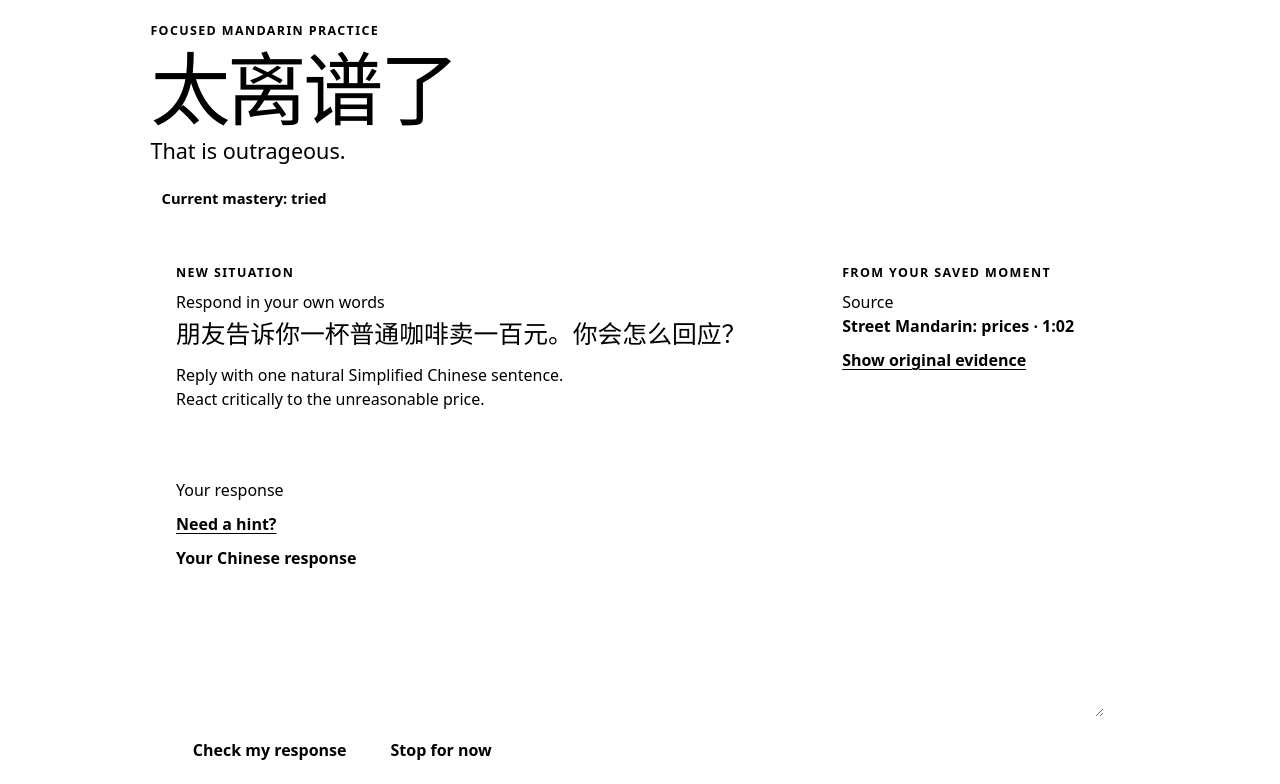
Test case: PracticeSession › reveals existing hint metadata without fetching and submits the hint assistance level
Click the button "Need a hint?": (226, 524) [176,502,276,546]
(page scrolled)
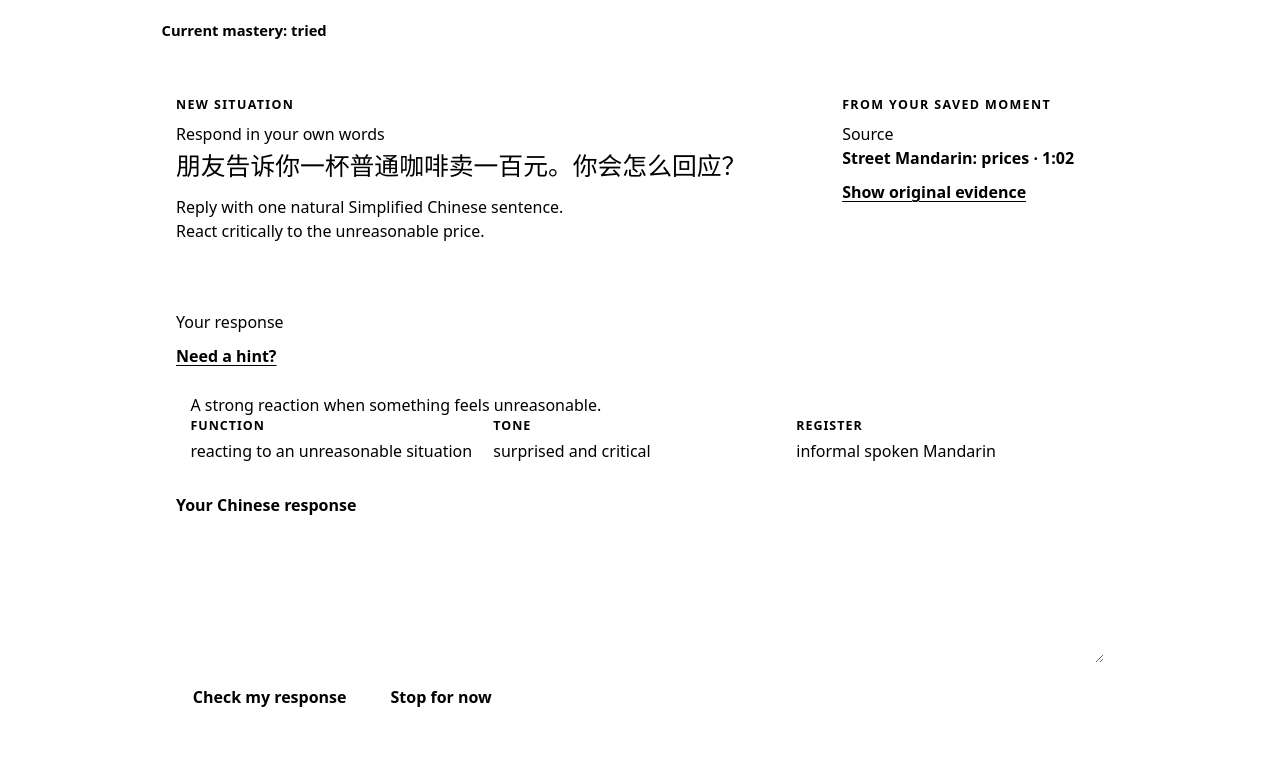
Expected: the text "A strong reaction when something feels unreasonable." is shown, [190,394,601,416]
Expected: the text "surprised and critical" is shown, [493,440,651,462]
Expected: the text "reacting to an unreasonable situation" is shown, [190,438,484,462]
In the text box labelled "Your Chinese response": (640, 595) [176,527,1104,663], type "这个价格太离谱了。"
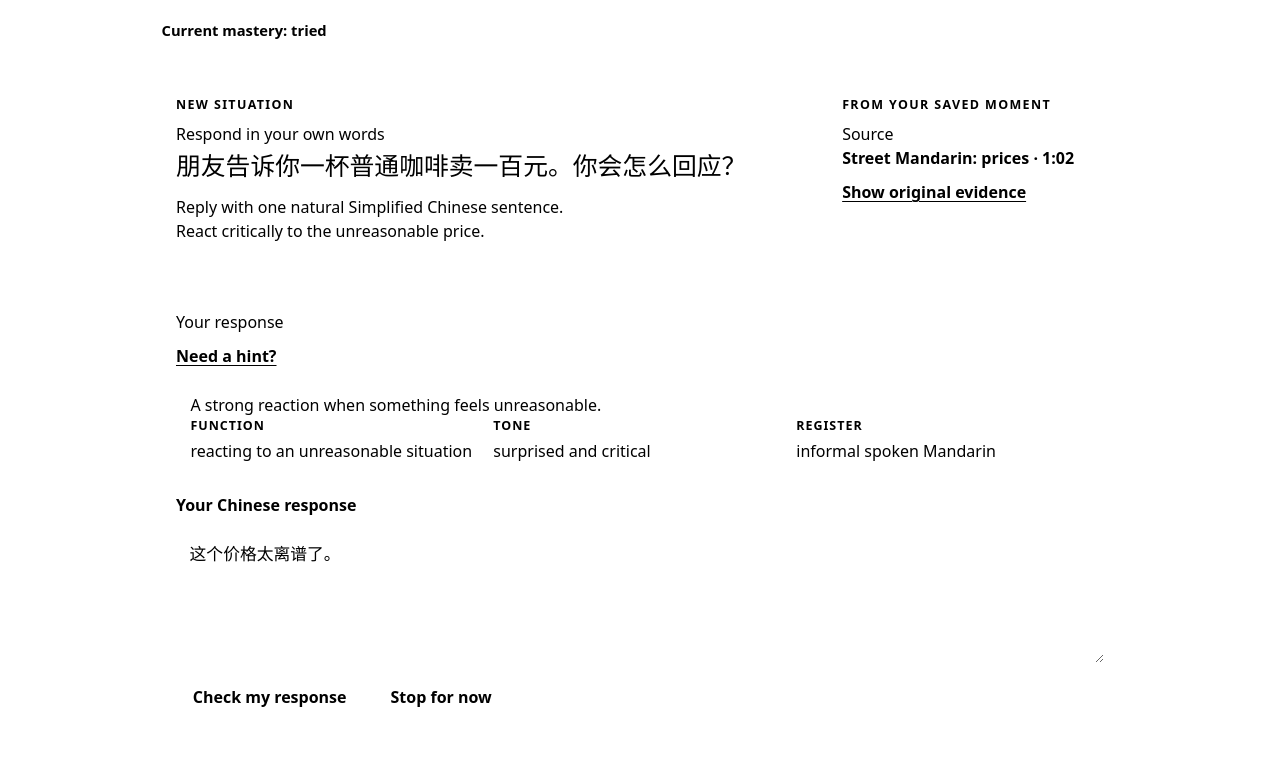
Click the button "Check my response": (270, 697) [176,674,363,720]
(page scrolled)
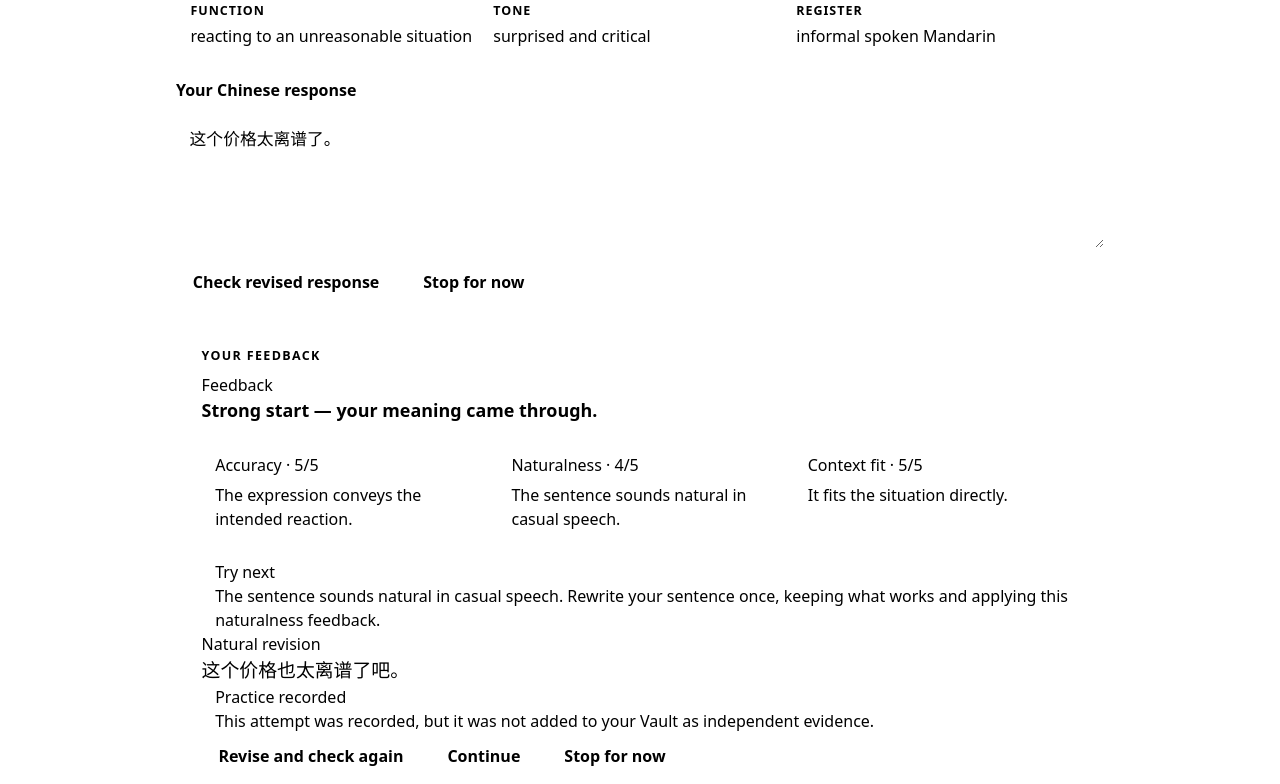
Expected: the heading "Feedback" is shown, [202,374,273,396]
